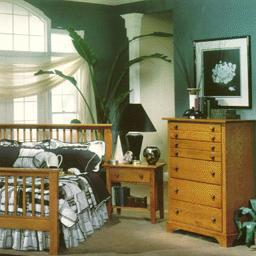Armario: (166, 116, 230, 245)
Cama: (3, 120, 108, 249)
